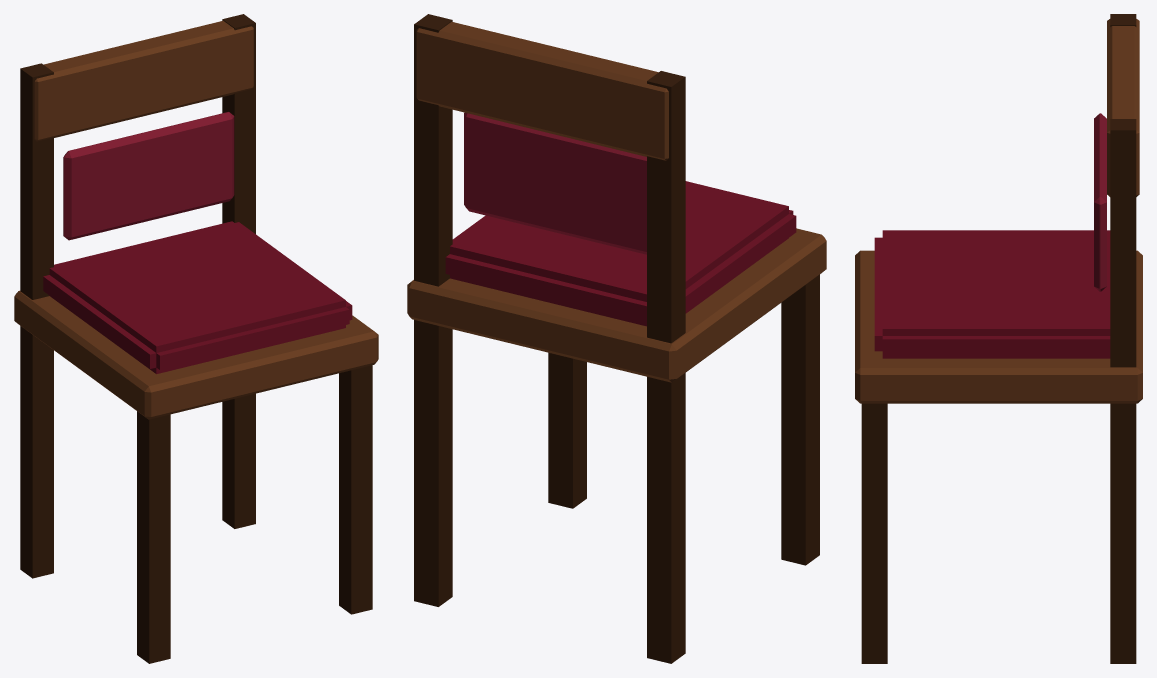
The model's file is chair_dining.glb.
3 views of the same model, side by side, from view 1: azimuth 30°, elevation 25°; view 2: azimuth 150°, elevation 25°; view 3: azimuth 270°, elevation 25° (orthographic). The views are drawn at different scales.
Parts seen in each view (by area): view 1: chair_dining; view 2: chair_dining; view 3: chair_dining.
Boxes of the visible parts, <box> form: chair_dining: <box>14,14,378,663</box>; chair_dining: <box>407,14,826,663</box>; chair_dining: <box>855,14,1142,663</box>.
Size of the model in its own units: 0.44 by 0.9 by 0.44.
